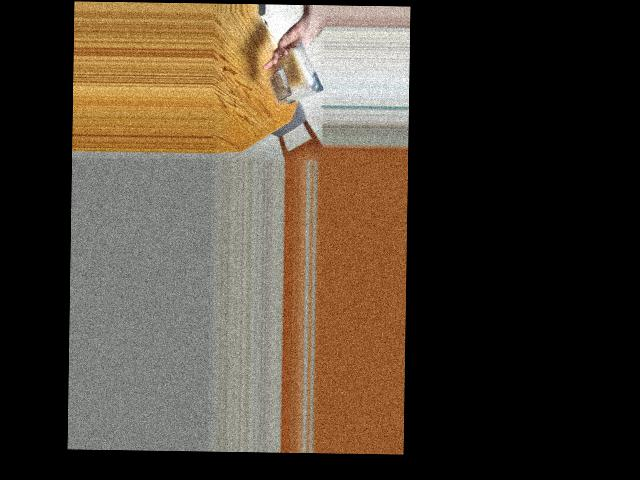cheese: (273, 46, 315, 105)
